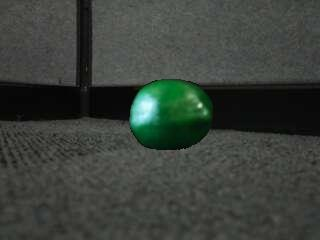Lime: (128, 80, 214, 152)
